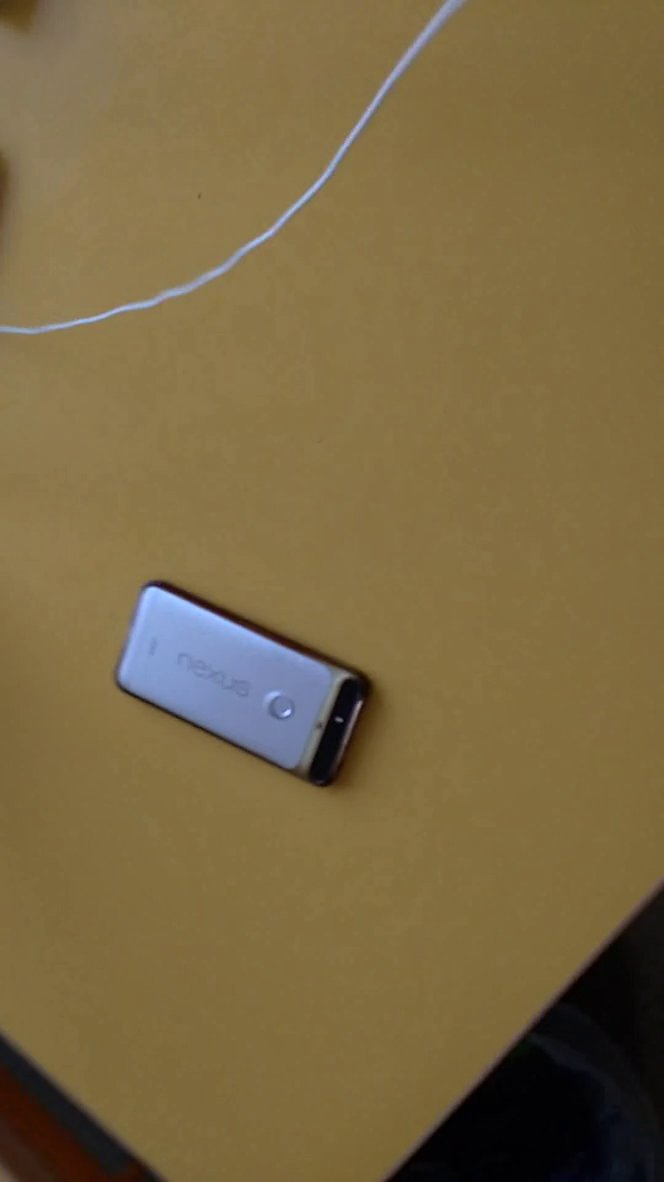phone: (103, 558, 398, 801)
